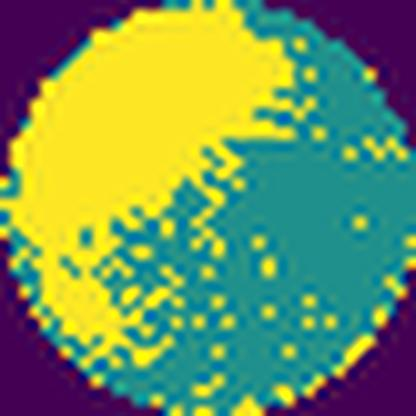Edge-Loc: (0, 0, 300, 369)
